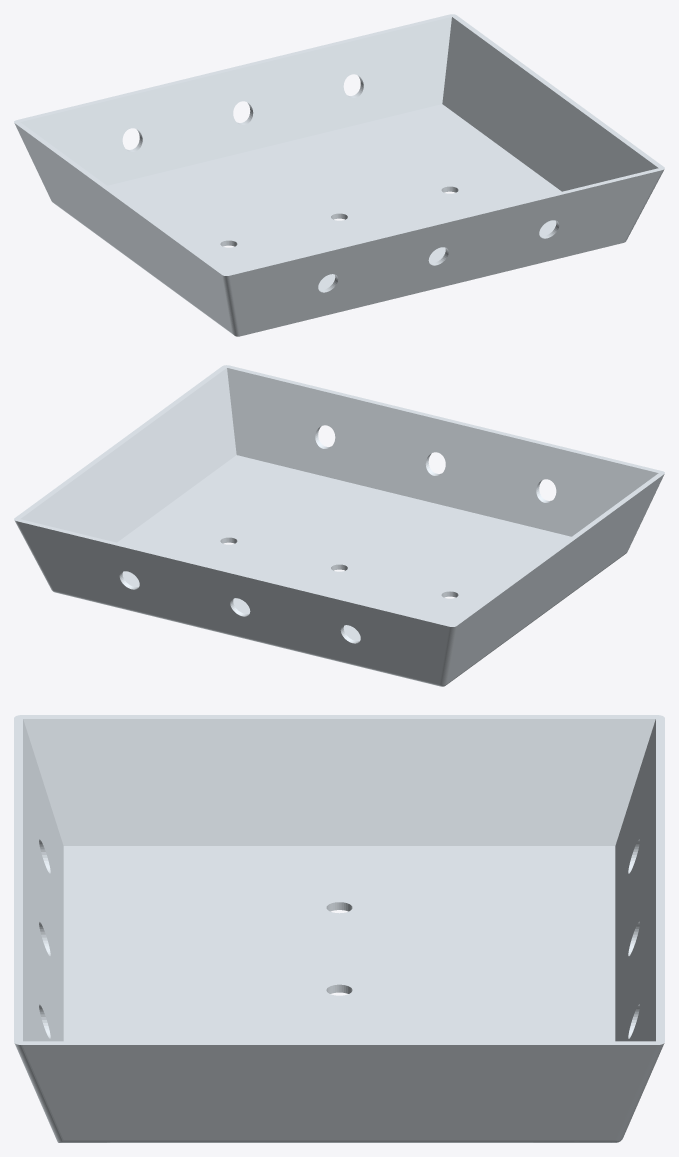
3 renders of one model, top to bottom at view 1: azimuth 30°, elevation 25°; view 2: azimuth 150°, elevation 25°; view 3: azimuth 270°, elevation 25°, orthographic. The views are drawn at different scales.
Visible parts, largest first — view 1: base_link_-_body_under-1; view 2: base_link_-_body_under-1; view 3: base_link_-_body_under-1.
Boxes of the visible parts, bbox=[...] form: base_link_-_body_under-1: bbox=[14, 14, 664, 336]; base_link_-_body_under-1: bbox=[14, 365, 664, 686]; base_link_-_body_under-1: bbox=[14, 715, 664, 1142].
Bounding box in the file's own units: 0.18 × 0.15 × 0.03.
Materials: 1 (1 with a texture image).
